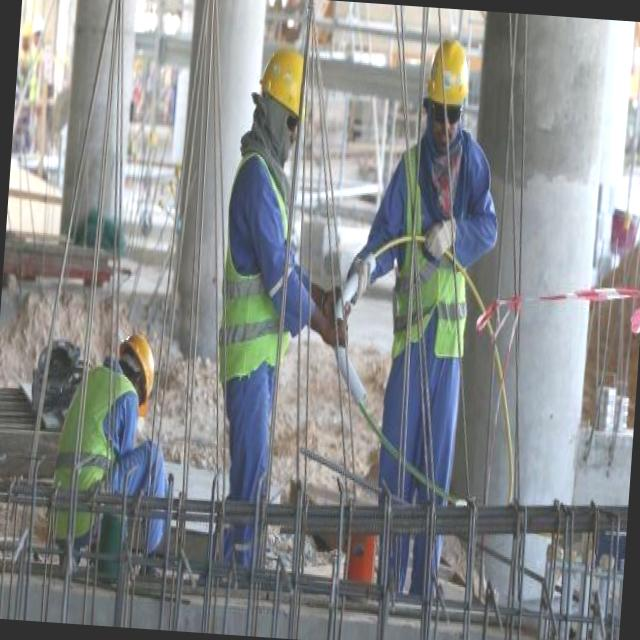helmet: (426, 28, 472, 108), (259, 48, 309, 114)
vest: (214, 156, 293, 394), (391, 150, 478, 366), (44, 364, 132, 545)
